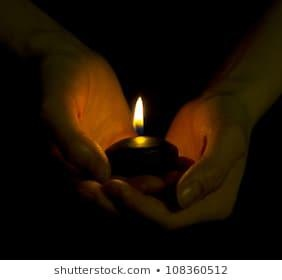fire: (129, 92, 146, 134)
